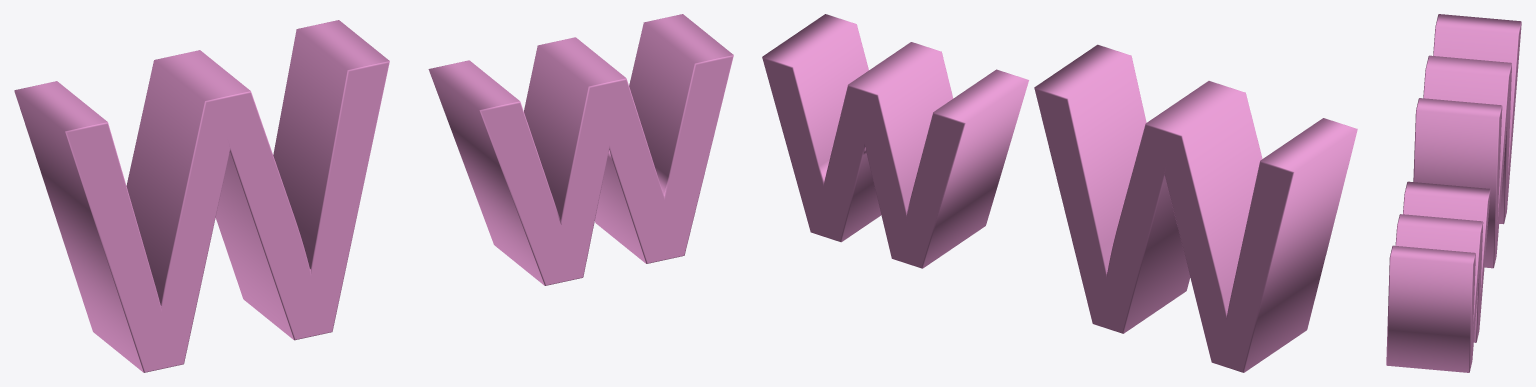
The model's file is ObjectW.fbx.
3 views of the same model, side by side, from view 1: azimuth 30°, elevation 25°; view 2: azimuth 150°, elevation 25°; view 3: azimuth 270°, elevation 25° (orthographic). The views are drawn at different scales.
Parts seen in each view (by area): view 1: Text; view 2: Text; view 3: Text.
Part boxes in pixels (x1,y1,x2,y2): Text: [14, 14, 733, 372]; Text: [762, 14, 1357, 372]; Text: [1386, 14, 1521, 372].
Bounding box in the file's own units: 365 × 143 × 98.88.
